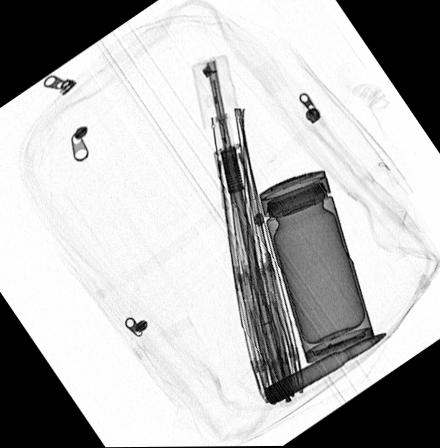Bullet: (263, 334, 387, 405)
